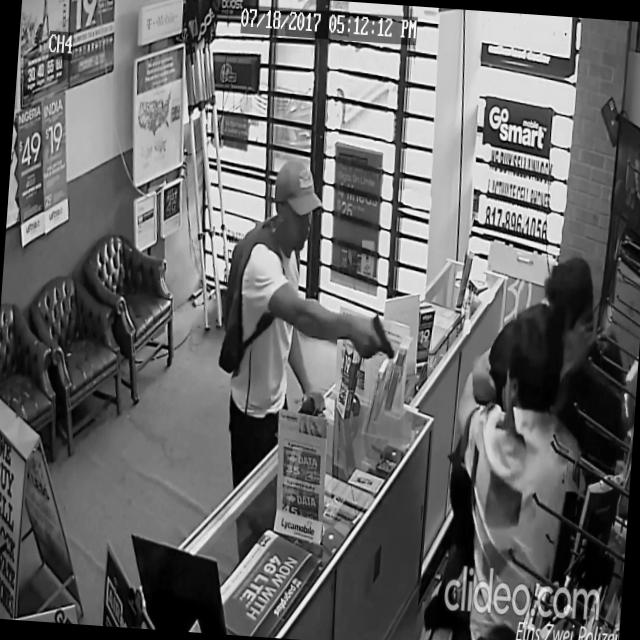gun: (367, 310, 399, 364)
person: (438, 294, 610, 640), (434, 298, 585, 640), (516, 249, 640, 640)
person with a gun: (209, 152, 409, 499)
